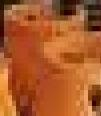cylinder: (0, 1, 101, 116)
